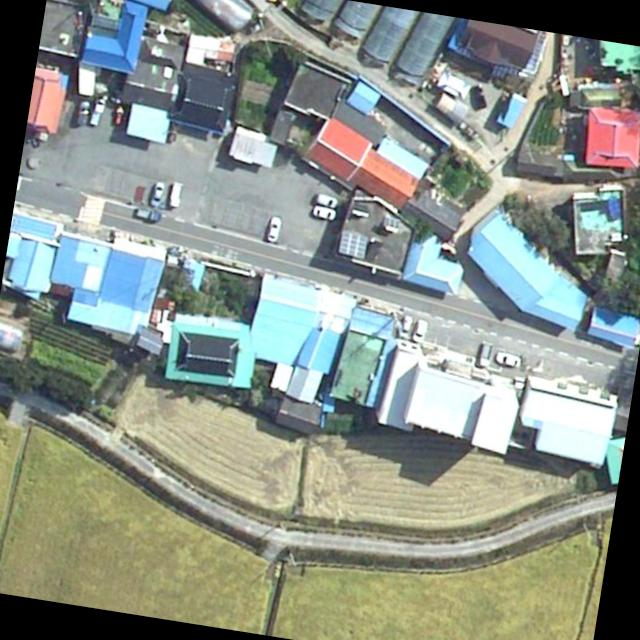solar: (336, 229, 369, 262), (136, 326, 168, 358)
